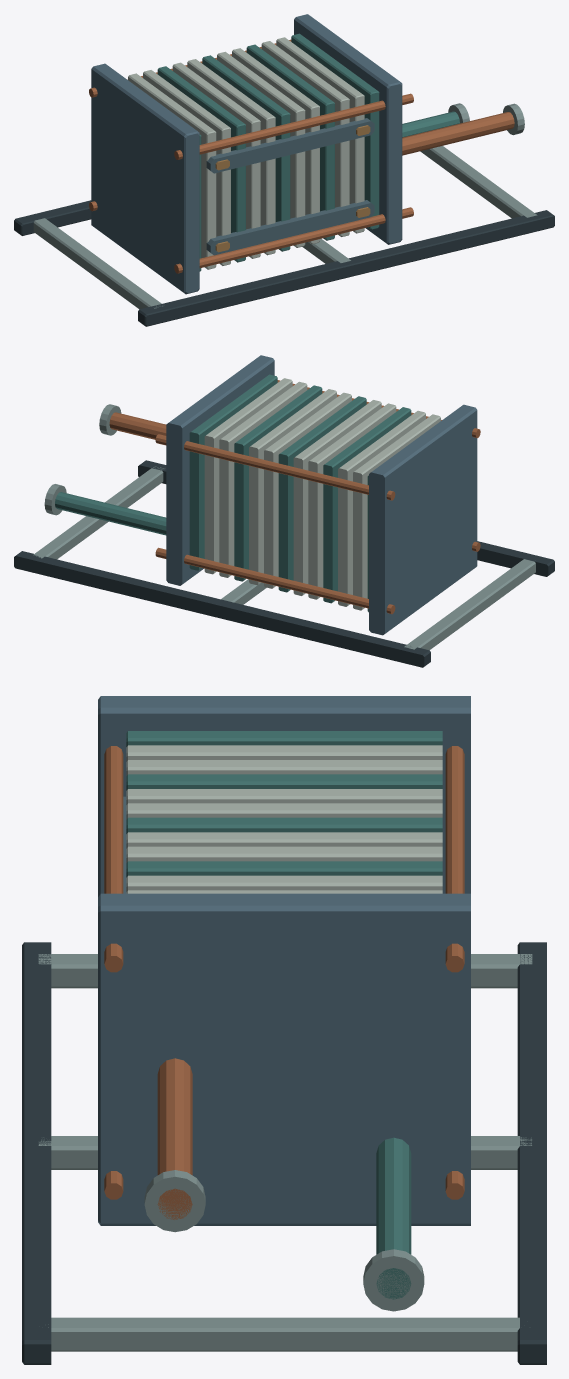
File: UT-08_plate_bank.glb
3 renders of one model, top to bottom at view 1: azimuth 30°, elevation 25°; view 2: azimuth 150°, elevation 25°; view 3: azimuth 270°, elevation 25°, orthographic. The views are drawn at different scales.
Parts seen in each view (by area): view 1: UT-08_plate_bank; view 2: UT-08_plate_bank; view 3: UT-08_plate_bank.
Boxes of the visible parts, x1,y1,x2,y2 form: UT-08_plate_bank: (14, 14, 554, 326); UT-08_plate_bank: (14, 355, 554, 667); UT-08_plate_bank: (22, 696, 546, 1364).
Size of the model in its own units: 13 by 4.97 by 7.2.
